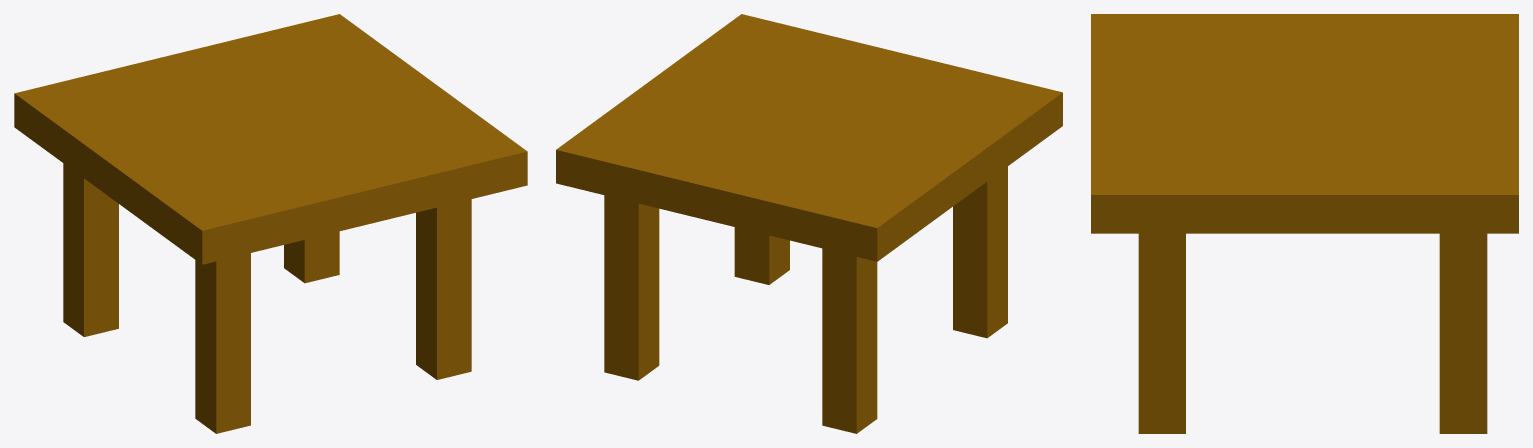
The model's file is stool.glb.
3 renders of one model, left to right at view 1: azimuth 30°, elevation 25°; view 2: azimuth 150°, elevation 25°; view 3: azimuth 270°, elevation 25°, orthographic. The views are drawn at different scales.
Parts seen in each view (by area): view 1: Untitled.001; view 2: Untitled.001; view 3: Untitled.001.
Part boxes in pixels (x1,y1,x2,y2): Untitled.001: (14, 14, 527, 433); Untitled.001: (556, 14, 1062, 433); Untitled.001: (1091, 14, 1518, 433).
Bounding box in the file's own units: 0.75 × 0.5 × 0.75.
1 material, 1 textured.
